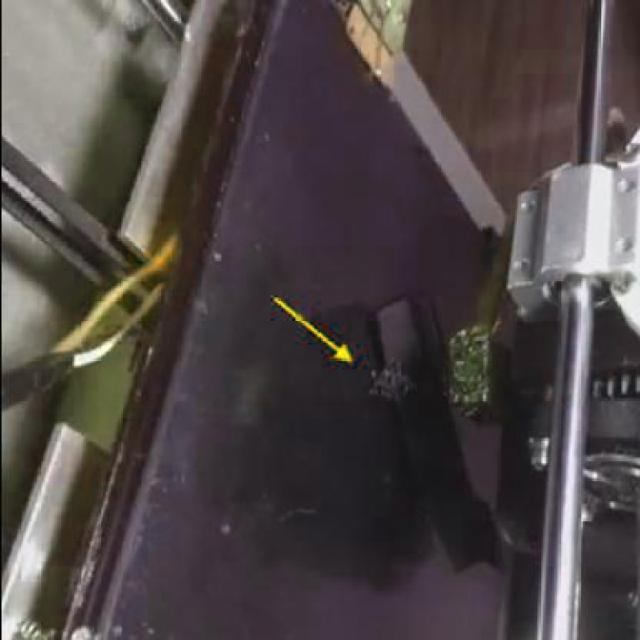Spaghetti: (368, 356, 414, 402)
